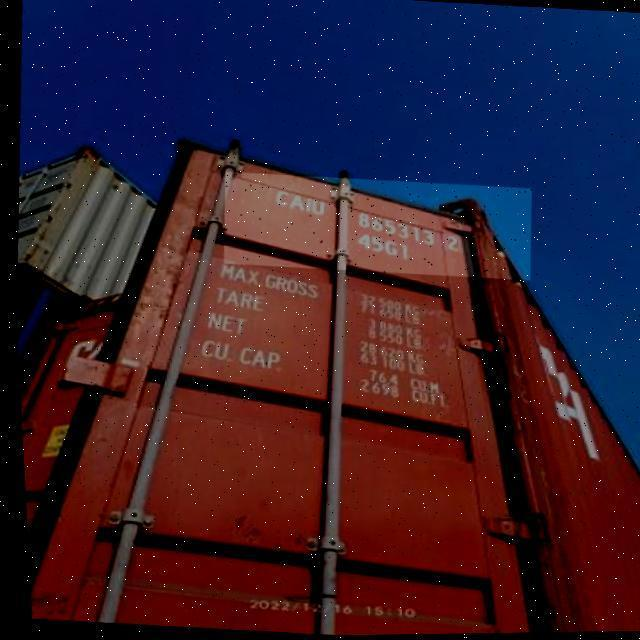container_number_h: (217, 168, 533, 285)
